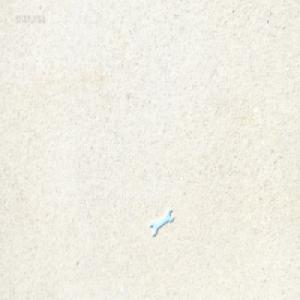Wrench: (151, 207, 176, 236)
